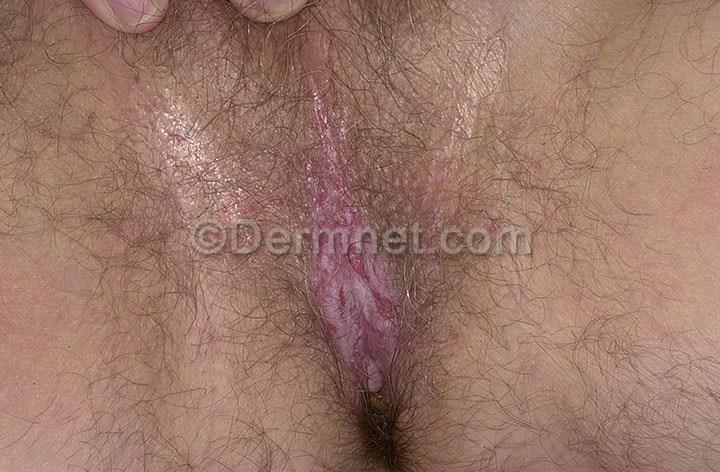Eczema: (300, 204, 408, 345), (291, 64, 363, 199), (415, 157, 458, 223)
